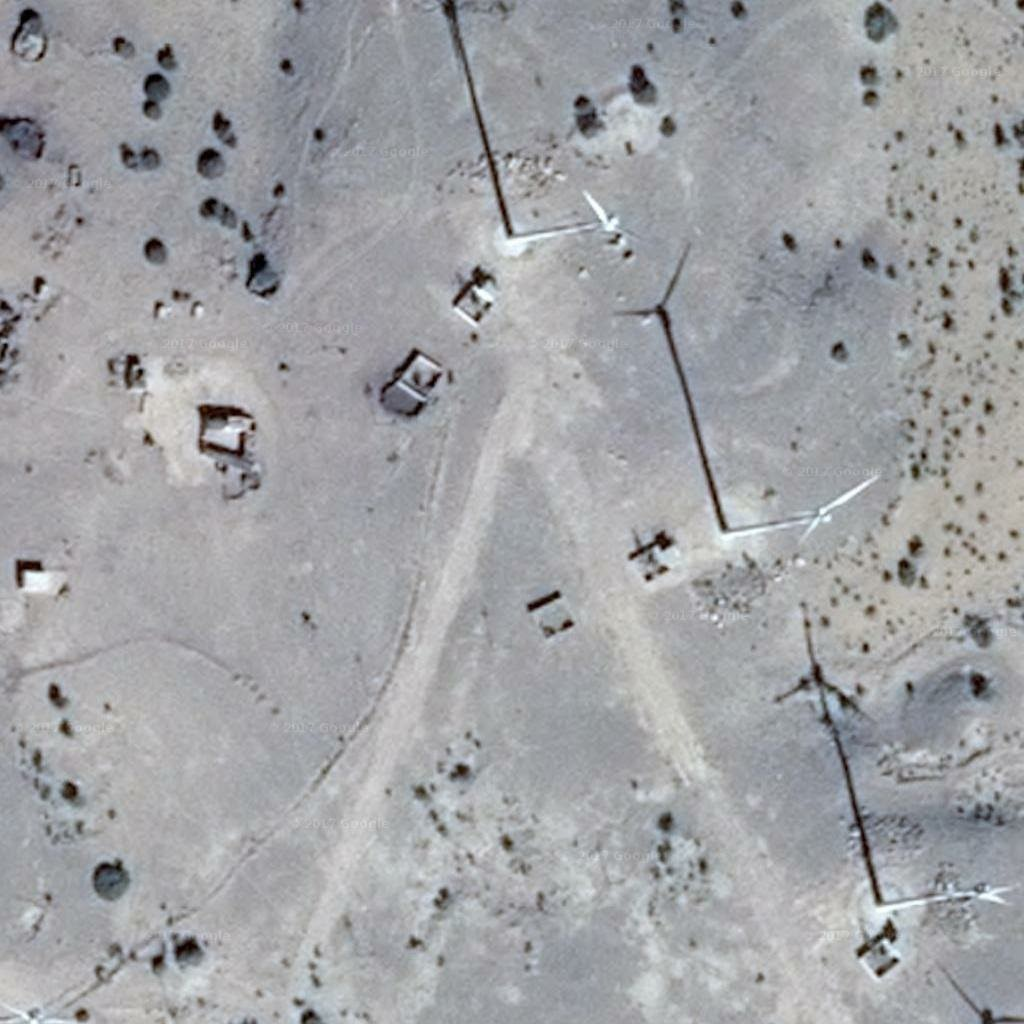Windmill: (606, 266, 745, 522)
